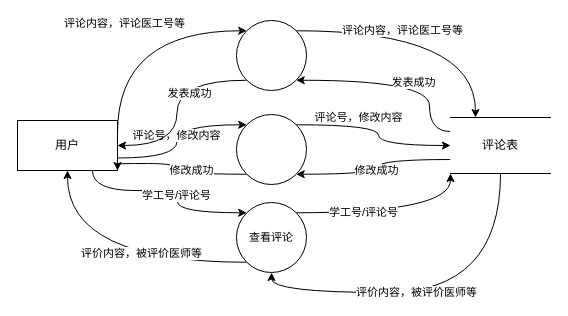
Some shapes in this 568 by 316 pixel diagram are drawn without their labels. Here are the shapes that lost their labels. From the top down, the centre of each, then its label:
(x=271, y=55): 发表评论
(x=271, y=149): 更改评论
